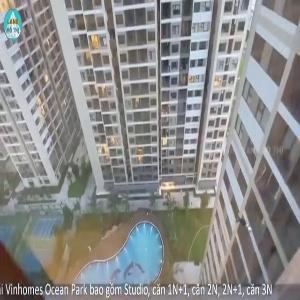drone: (196, 178, 296, 278)
